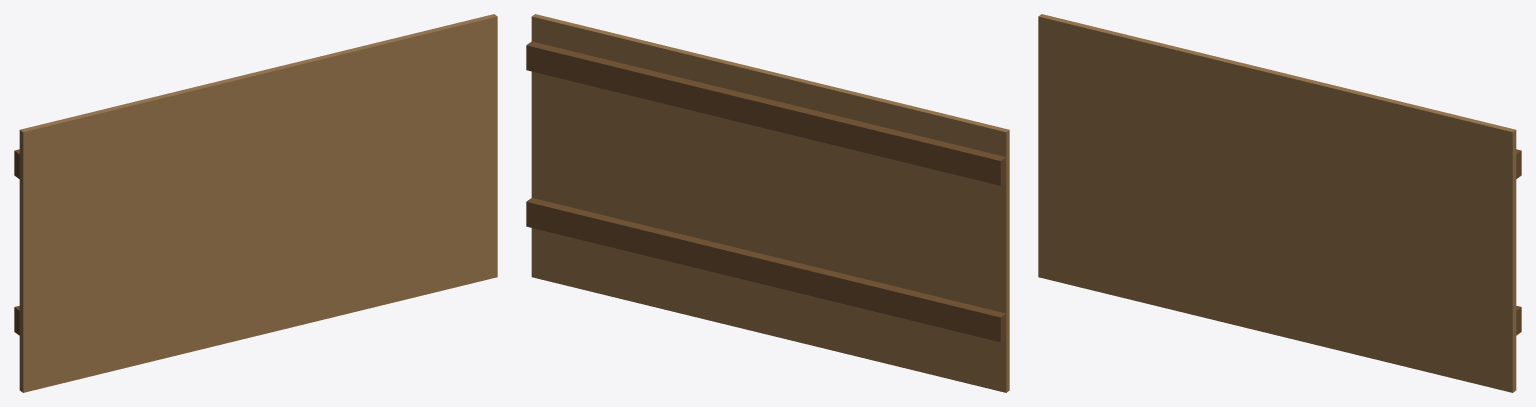
Rendered from panel_lod1.glb.
3 views of the same model, side by side, from view 1: azimuth 30°, elevation 25°; view 2: azimuth 150°, elevation 25°; view 3: azimuth 330°, elevation 25° (orthographic).
Parts seen in each view (by area): view 1: placeholder; view 2: placeholder; view 3: placeholder.
Part boxes in pixels (x1,y1,x2,y2): placeholder: [14, 14, 497, 392]; placeholder: [526, 14, 1009, 392]; placeholder: [1038, 14, 1521, 392].
Bounding box in the file's own units: 2 × 1.05 × 0.065.
